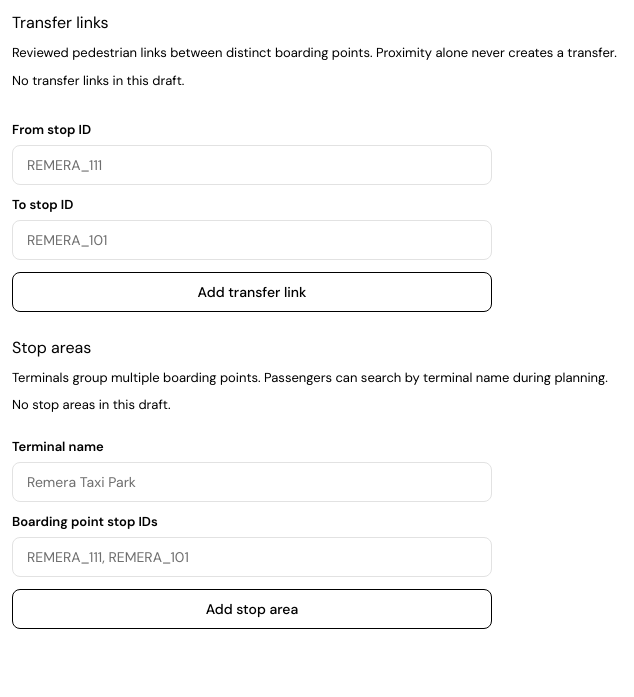
Test case: Staff transfer review › keeps malformed editor data intact and reports unknown stop IDs
In the field labelled "From stop ID": (252, 165) top-left (12, 145), bottom-right (492, 185), type "missing"
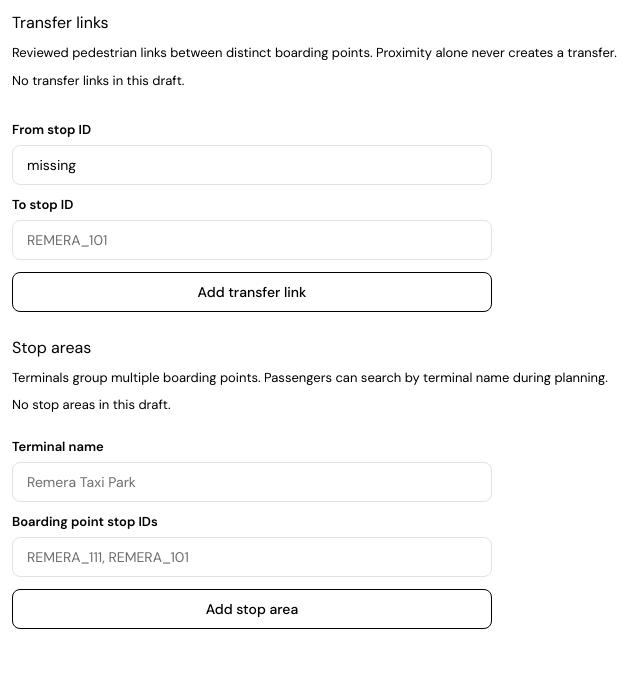
In the field labelled "To stop ID": (252, 240) top-left (12, 220), bottom-right (492, 260), type "B"
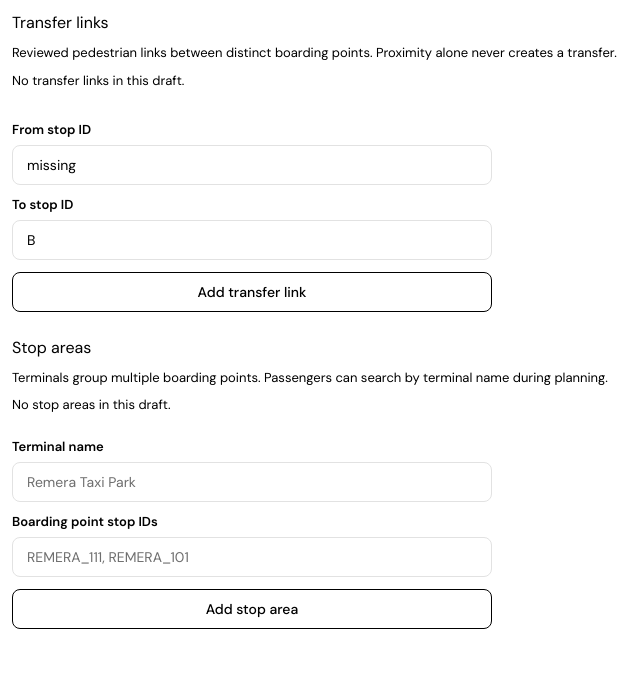
Click the button "Add transfer link": (252, 292) top-left (12, 272), bottom-right (492, 312)
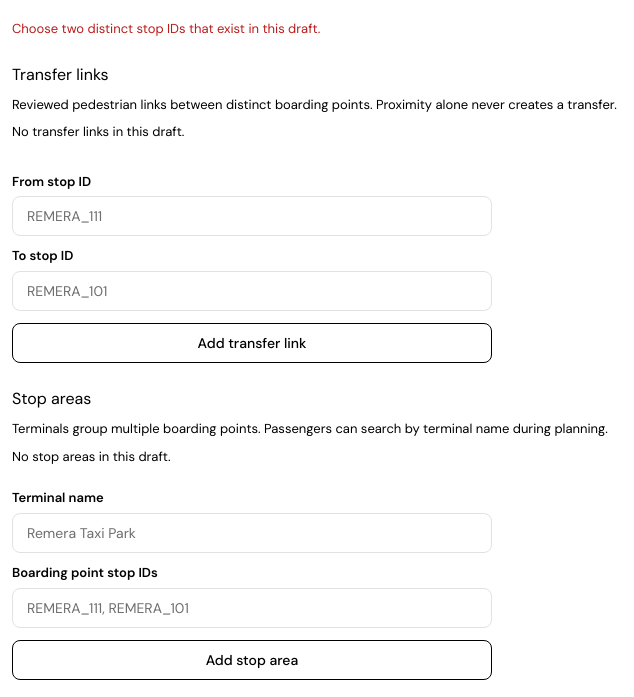
expect the message shows "exist in this draft": met, box top-left (12, 20), bottom-right (320, 37)
